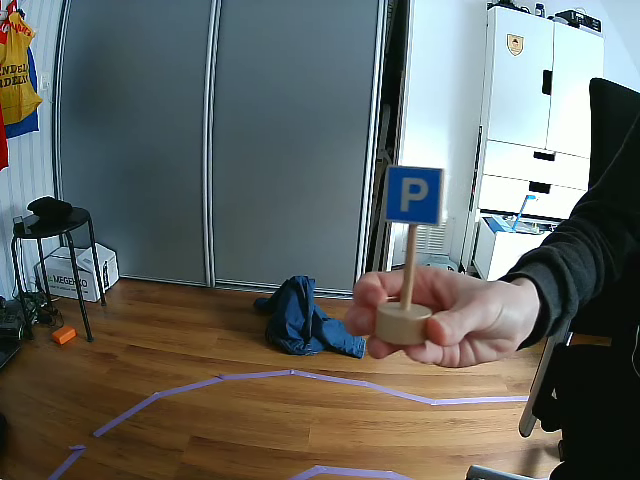parkeerbord: (385, 168, 442, 222)
